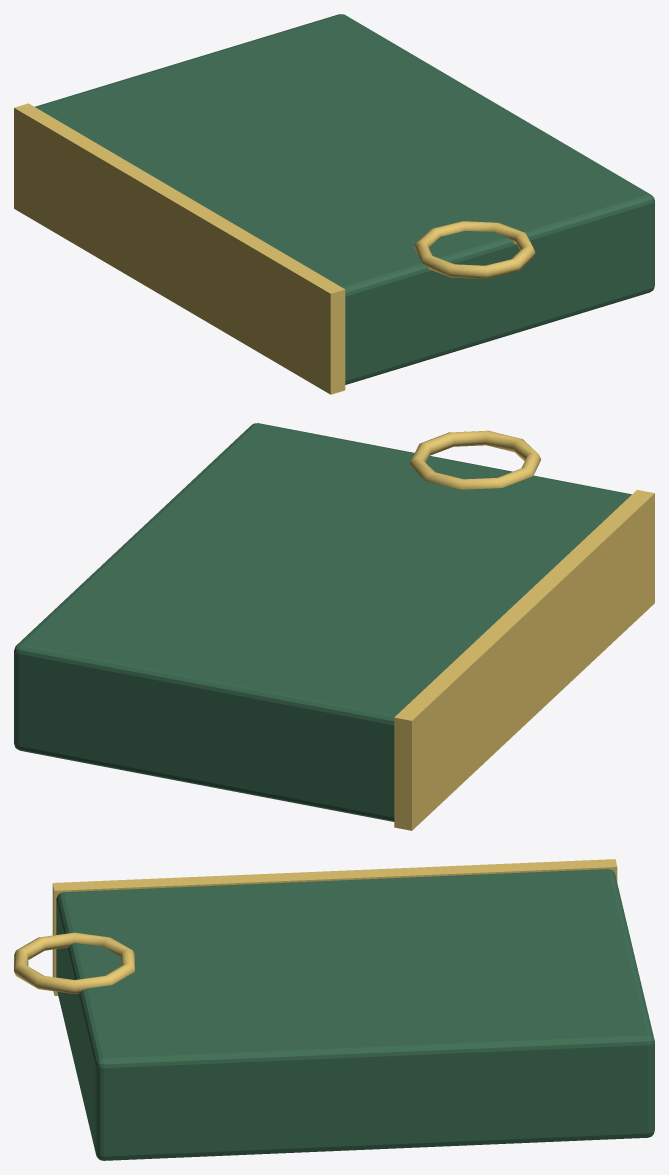
The model's file is grimoire_closed_green.glb.
3 renders of one model, top to bottom at view 1: azimuth 30°, elevation 25°; view 2: azimuth 150°, elevation 25°; view 3: azimuth 270°, elevation 25°, orthographic. The views are drawn at different scales.
Parts seen in each view (by area): view 1: GD_grimoire_closed_green__m0, GD_grimoire_closed_green__m2; view 2: GD_grimoire_closed_green__m0, GD_grimoire_closed_green__m2; view 3: GD_grimoire_closed_green__m0, GD_grimoire_closed_green__m2.
Boxes of the visible parts, x1=… form: GD_grimoire_closed_green__m0: x1=35, y1=14, x2=654, y2=384; GD_grimoire_closed_green__m2: x1=14, y1=103, x2=535, y2=394; GD_grimoire_closed_green__m0: x1=14, y1=423, x2=631, y2=821; GD_grimoire_closed_green__m2: x1=394, y1=430, x2=654, y2=830; GD_grimoire_closed_green__m0: x1=56, y1=869, x2=654, y2=1160; GD_grimoire_closed_green__m2: x1=14, y1=859, x2=617, y2=995.
Bounding box in the file's own units: 0.2535 × 0.065 × 0.3422.
